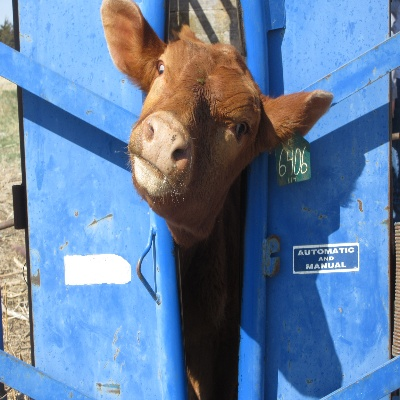fidget_spinner: (136, 107, 193, 191)
